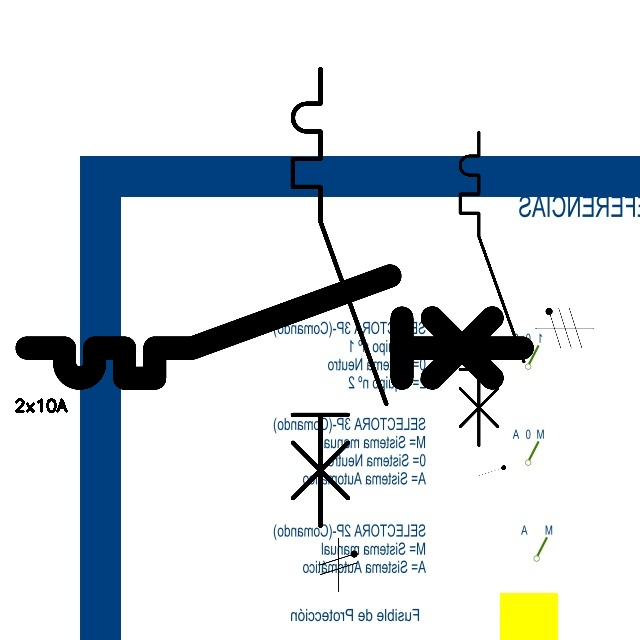interruptor_termomagnetico: (14, 263, 535, 391), (281, 57, 398, 537), (452, 124, 532, 453)
